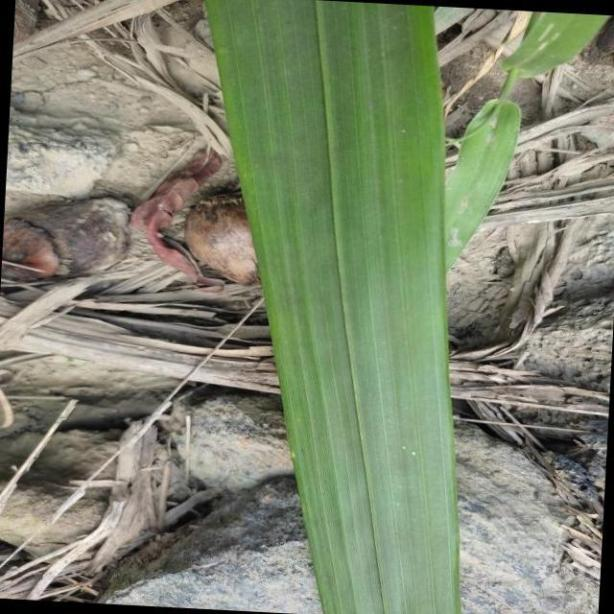Healthy: (205, 1, 459, 614)
